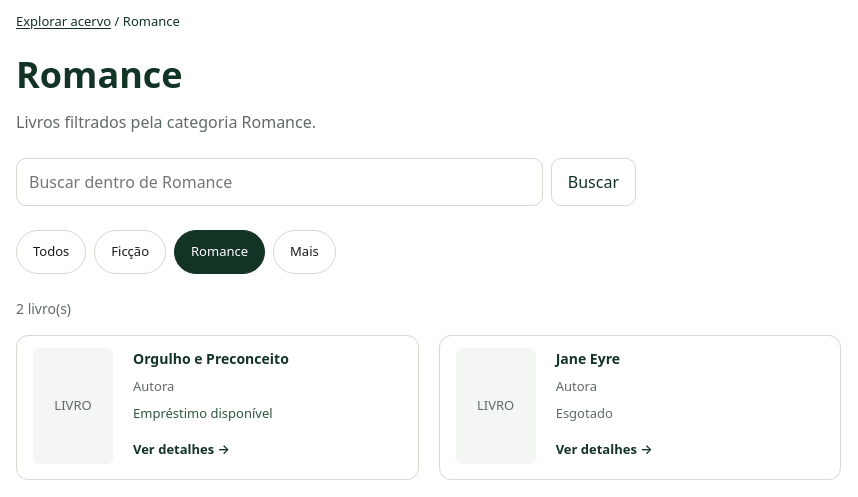
Scenario: GenreBooksComponent › busca dentro da categoria e permite limpar a busca
Type "  jane " into the search field with id "genre-search".
click(279, 182); type("  jane ")  # box [16,158,543,206]
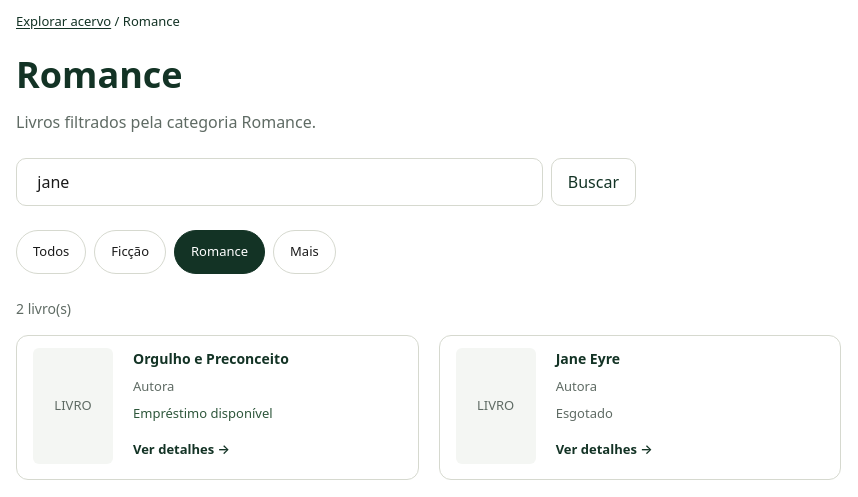
Submit the form with class "genre__search", box [16,158,636,206]
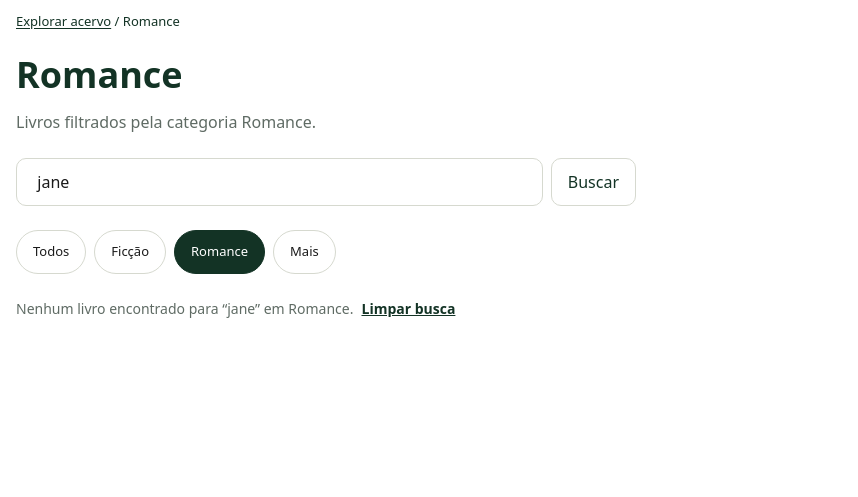
Result: the text "Nenhum livro encontrado para “jane” em Romance." is shown at [16,298,354,318]
Click the button with class "genre__clear".
click(408, 308)  # box [362,298,455,318]
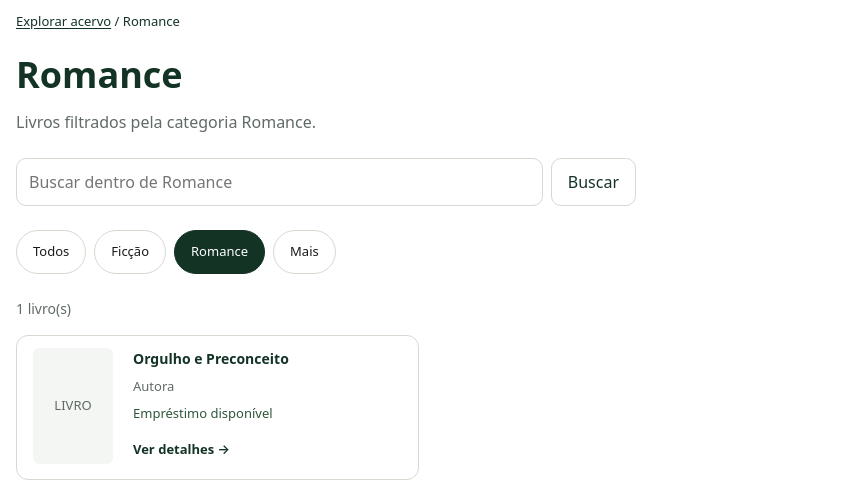
Result: the search field with id "genre-search" is empty at [16,158,543,206]
